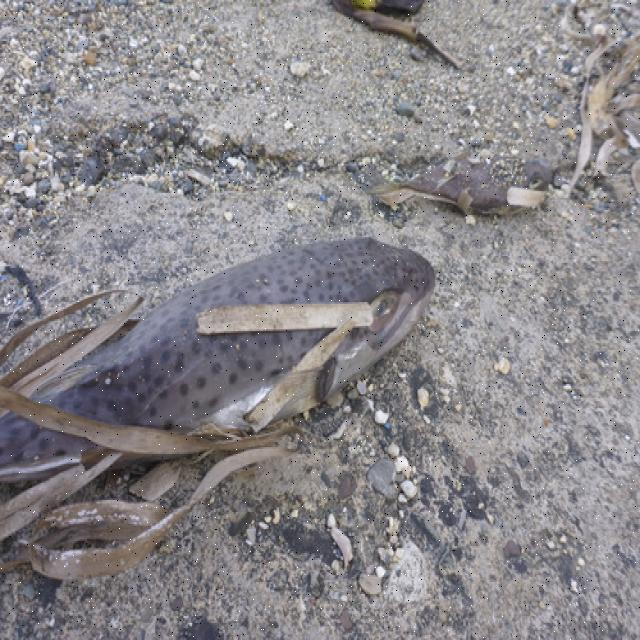Balik: (34, 239, 435, 431)
